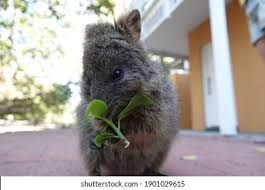quokka: (63, 9, 192, 176)
